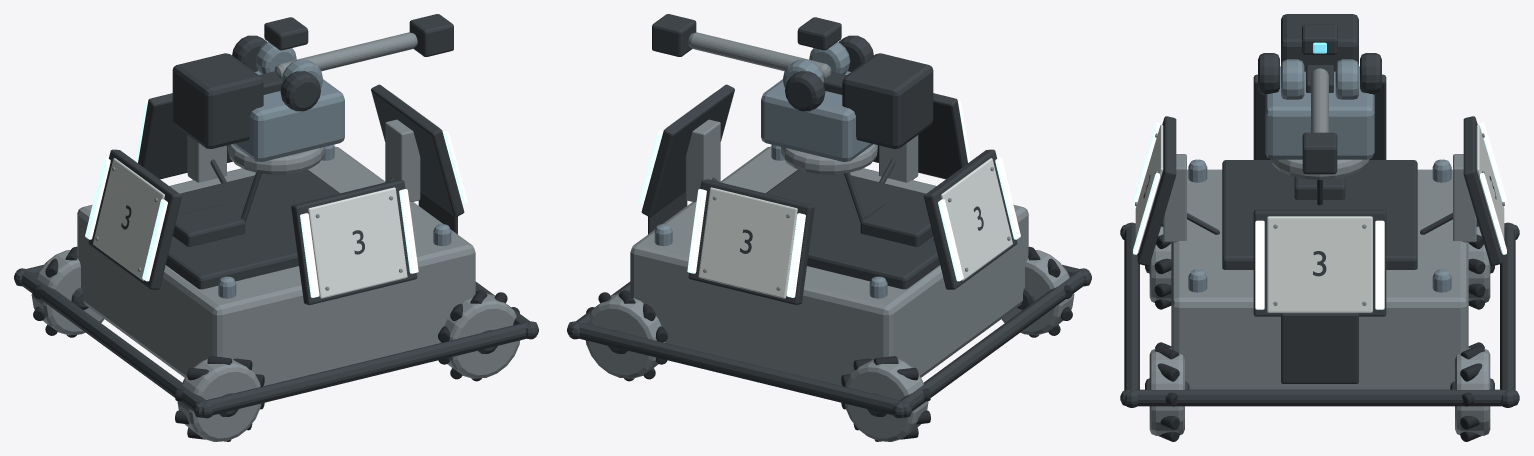
File: robot-3-spec2026.glb
3 renders of one model, left to right at view 1: azimuth 30°, elevation 25°; view 2: azimuth 150°, elevation 25°; view 3: azimuth 270°, elevation 25°, orthographic. The views are drawn at different scales.
Parts seen in each view (by area): view 1: Chassis_RobotMatteAluminum, Chassis_RobotMatteGraphite, Chassis_CeramicPanels, Turret_RobotMatteGraphite, GimbalCheeks, Chassis_TeamGlow, MecanumHub, MecanumHub.002, GunPitch_RobotMatteGraphite, MecanumHub.001, MatteAluminumBarrel, YawBearing (+4 smaller); view 2: Chassis_RobotMatteAluminum, Chassis_RobotMatteGraphite, Chassis_CeramicPanels, Turret_RobotMatteGraphite, GimbalCheeks, Chassis_TeamGlow, MecanumHub.001, MecanumHub.003, GunPitch_RobotMatteGraphite, MecanumHub, MatteAluminumBarrel, YawBearing (+4 smaller); view 3: Chassis_RobotMatteGraphite, Chassis_RobotMatteAluminum, Chassis_CeramicPanels, GimbalCheeks, Turret_RobotMatteGraphite, Chassis_TeamGlow, GunPitch_RobotMatteGraphite, GunPitch_TeamPrimaryShell, MecanumHub.002, MecanumHub.003, MatteAluminumBarrel, YawBearing (+10 smaller).
Boxes of the visible parts, x1,y1,x2,y2 form: Chassis_RobotMatteAluminum: (77, 119, 475, 386); Chassis_RobotMatteGraphite: (14, 84, 538, 418); Chassis_CeramicPanels: (93, 91, 439, 298); Turret_RobotMatteGraphite: (172, 35, 320, 222); GimbalCheeks: (232, 71, 344, 161); Chassis_TeamGlow: (85, 88, 467, 297); MecanumHub: (177, 359, 260, 441); MecanumHub.002: (440, 293, 520, 378); GunPitch_RobotMatteGraphite: (259, 14, 453, 94); MecanumHub.001: (31, 250, 104, 335); MatteAluminumBarrel: (274, 32, 417, 78); YawBearing: (228, 144, 324, 174); Chassis_RobotMatteAluminum: (630, 119, 1028, 386); Chassis_RobotMatteGraphite: (567, 84, 1091, 418); Chassis_CeramicPanels: (666, 91, 1012, 298); Turret_RobotMatteGraphite: (785, 35, 933, 222); GimbalCheeks: (761, 71, 873, 161); Chassis_TeamGlow: (638, 88, 1020, 297); MecanumHub.001: (845, 359, 928, 441); MecanumHub.003: (585, 293, 665, 378); GunPitch_RobotMatteGraphite: (652, 14, 846, 94); MecanumHub: (1001, 250, 1074, 335); MatteAluminumBarrel: (688, 32, 831, 78); YawBearing: (781, 144, 877, 174); Chassis_RobotMatteGraphite: (1120, 74, 1519, 407); Chassis_RobotMatteAluminum: (1135, 133, 1504, 389); Chassis_CeramicPanels: (1135, 124, 1504, 312); GimbalCheeks: (1265, 66, 1374, 159); Turret_RobotMatteGraphite: (1258, 14, 1381, 205); Chassis_TeamGlow: (1133, 122, 1506, 309); GunPitch_RobotMatteGraphite: (1302, 24, 1337, 174); GunPitch_TeamPrimaryShell: (1281, 59, 1358, 99); MecanumHub.002: (1149, 348, 1184, 435); MecanumHub.003: (1455, 348, 1490, 435); MatteAluminumBarrel: (1311, 68, 1328, 132); YawBearing: (1270, 159, 1369, 179).
Size of the model in its own units: 0.5319 by 0.4835 by 0.51.
